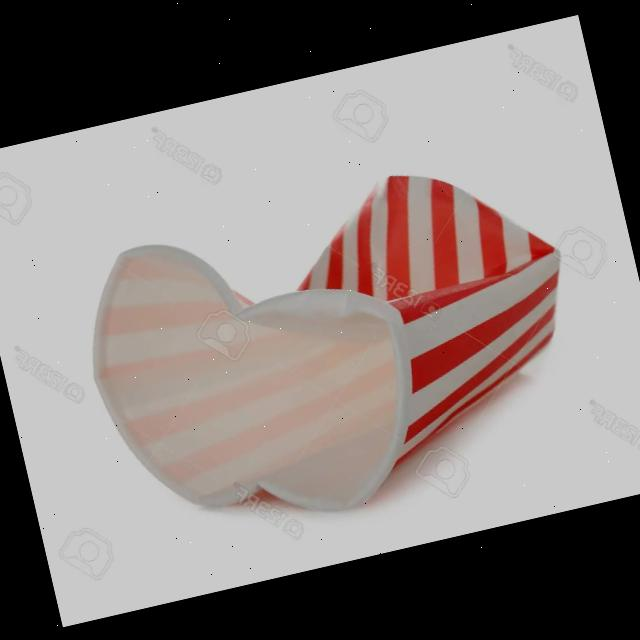trash: (62, 137, 611, 558)
